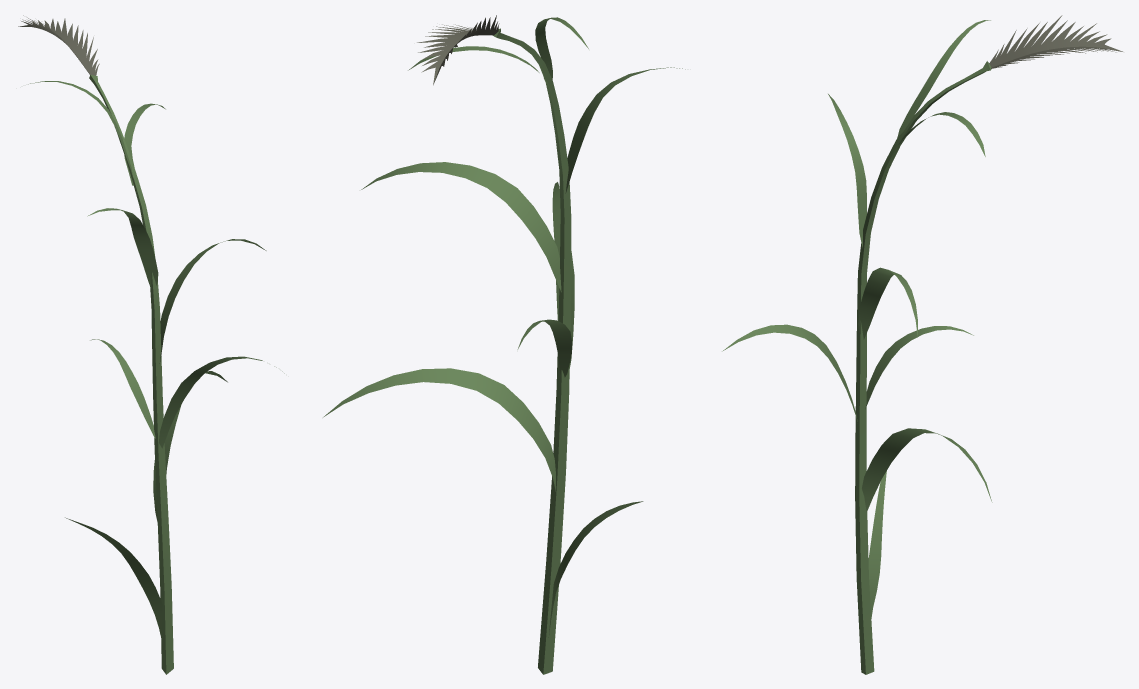
File: plant_pampa_D.fbx
The picture shows the model from 3 angles, left to right: view 1: azimuth 30°, elevation 25°; view 2: azimuth 150°, elevation 25°; view 3: azimuth 270°, elevation 25°; orthographic projection. The views are drawn at different scales.
Visible parts, largest first — view 1: plant_pampa_D_twig, plant_pampa_D_flower, plant_pampa_D_leaf_H, plant_pampa_D_leaf_F, plant_pampa_D_leaf_C, plant_pampa_D_leaf_D, plant_pampa_D_leaf_E, plant_pampa_D_leaf_G, plant_pampa_D_leaf_B; view 2: plant_pampa_D_twig, plant_pampa_D_leaf_G, plant_pampa_D_leaf_D, plant_pampa_D_flower, plant_pampa_D_leaf_C, plant_pampa_D_leaf_F, plant_pampa_D_leaf_H, plant_pampa_D_leaf_E, plant_pampa_D_leaf_A; view 3: plant_pampa_D_twig, plant_pampa_D_flower, plant_pampa_D_leaf_G, plant_pampa_D_leaf_D, plant_pampa_D_leaf_H, plant_pampa_D_leaf_C, plant_pampa_D_leaf_F, plant_pampa_D_leaf_E, plant_pampa_D_leaf_A.
Part boxes in pixels (left/top/right/bottom): plant_pampa_D_twig: left=89, top=74, right=173, bottom=674; plant_pampa_D_flower: left=18, top=15, right=99, bottom=75; plant_pampa_D_leaf_H: left=65, top=517, right=162, bottom=642; plant_pampa_D_leaf_F: left=158, top=356, right=284, bottom=448; plant_pampa_D_leaf_C: left=87, top=208, right=158, bottom=288; plant_pampa_D_leaf_D: left=159, top=239, right=266, bottom=363; plant_pampa_D_leaf_E: left=90, top=339, right=155, bottom=438; plant_pampa_D_leaf_G: left=153, top=371, right=227, bottom=521; plant_pampa_D_leaf_B: left=124, top=103, right=165, bottom=185; plant_pampa_D_twig: left=492, top=28, right=571, bottom=674; plant_pampa_D_leaf_G: left=323, top=368, right=555, bottom=491; plant_pampa_D_leaf_D: left=361, top=162, right=561, bottom=292; plant_pampa_D_flower: left=417, top=15, right=499, bottom=85; plant_pampa_D_leaf_C: left=565, top=67, right=685, bottom=193; plant_pampa_D_leaf_F: left=552, top=182, right=574, bottom=368; plant_pampa_D_leaf_H: left=548, top=501, right=643, bottom=637; plant_pampa_D_leaf_E: left=517, top=319, right=572, bottom=377; plant_pampa_D_leaf_A: left=535, top=17, right=588, bottom=83; plant_pampa_D_twig: left=855, top=61, right=991, bottom=674; plant_pampa_D_flower: left=989, top=15, right=1122, bottom=68; plant_pampa_D_leaf_G: left=862, top=428, right=992, bottom=512; plant_pampa_D_leaf_D: left=858, top=267, right=917, bottom=339; plant_pampa_D_leaf_H: left=868, top=471, right=886, bottom=618; plant_pampa_D_leaf_C: left=828, top=94, right=866, bottom=247; plant_pampa_D_leaf_F: left=722, top=324, right=857, bottom=421; plant_pampa_D_leaf_E: left=865, top=326, right=973, bottom=409; plant_pampa_D_leaf_A: left=897, top=20, right=990, bottom=138.
Size of the model in its own units: 73.35 by 187 by 107.
